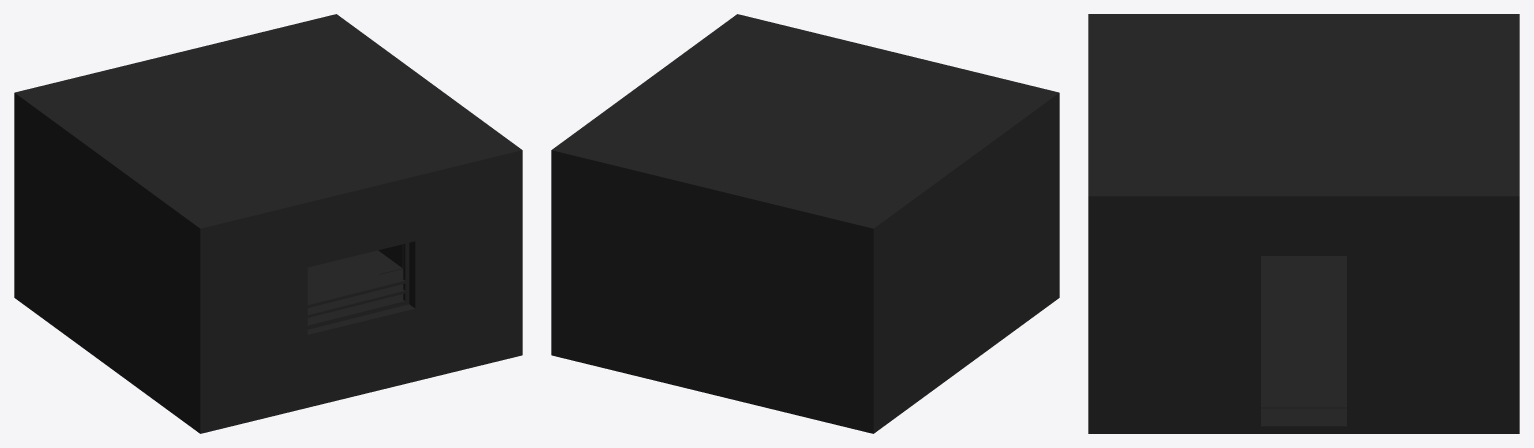
3 views of the same model, side by side, from view 1: azimuth 30°, elevation 25°; view 2: azimuth 150°, elevation 25°; view 3: azimuth 270°, elevation 25° (orthographic). The views are drawn at different scales.
Visible parts, largest first — view 1: oda_Baked; view 2: oda_Baked; view 3: oda_Baked.
Boxes of the visible parts, x1=… form: oda_Baked: x1=14, y1=14, x2=522, y2=433; oda_Baked: x1=551, y1=14, x2=1059, y2=433; oda_Baked: x1=1088, y1=14, x2=1519, y2=433.
Size of the model in its own units: 10 by 6.09 by 10.
1 material, 1 textured.
